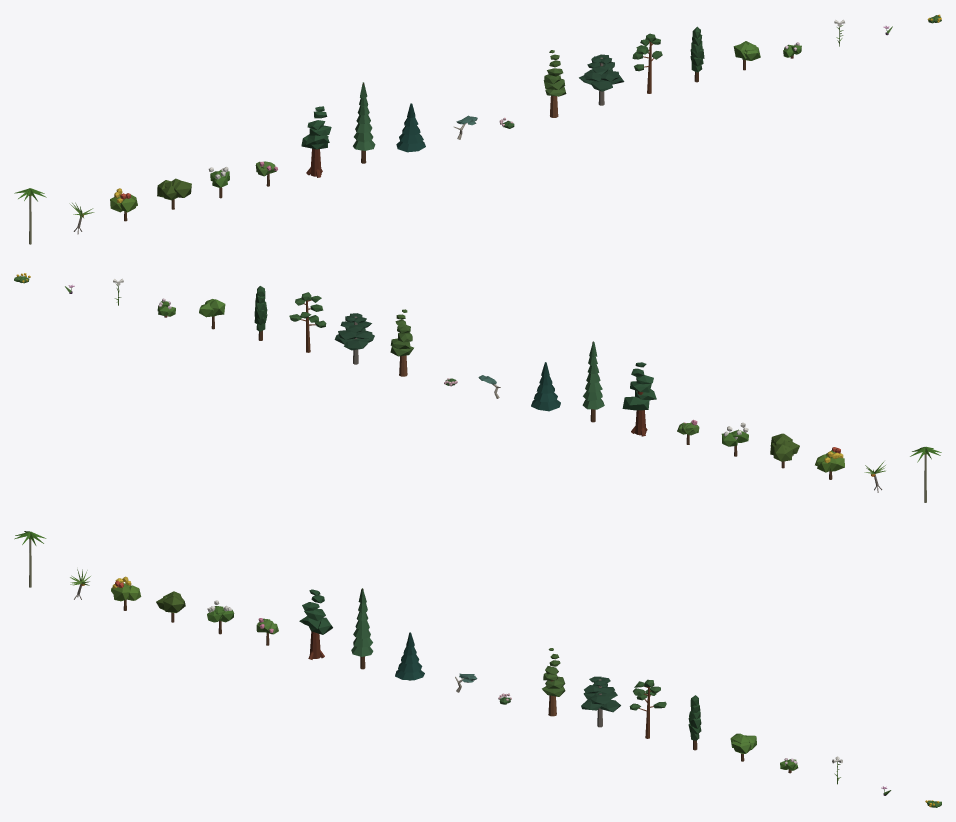
The model's file is trees.glb.
3 renders of one model, top to bottom at view 1: azimuth 30°, elevation 25°; view 2: azimuth 150°, elevation 25°; view 3: azimuth 330°, elevation 25°, orthographic.
Visible parts, largest first — view 1: red_cypress, hemlock, taiwania, hinoki, fir, pine, acacia, incense_cedar, goldenrain; view 2: red_cypress, hemlock, taiwania, hinoki, fir, pine, acacia, goldenrain, incense_cedar; view 3: red_cypress, hemlock, taiwania, hinoki, fir, pine.
Boxes of the visible parts, x1,y1,x2,y2 form: red_cypress: (301,106,331,177); hemlock: (579,54,624,105); taiwania: (353,82,375,163); hinoki: (543,50,566,117); fir: (396,103,425,152); pine: (632,33,662,93); acacia: (157,178,191,209); incense_cedar: (690,26,704,82); goldenrain: (110,188,137,221); red_cypress: (622,362,656,436); hemlock: (334,313,374,364); taiwania: (582,341,604,422); hinoki: (390,309,413,376); fir: (531,362,560,411); pine: (289,292,326,352); acacia: (770,433,799,468); goldenrain: (815,447,844,479); incense_cedar: (254,286,267,340); red_cypress: (299,589,332,659); hemlock: (581,676,620,727); taiwania: (351,588,373,669); hinoki: (542,648,565,716); fir: (395,632,424,680); pine: (629,679,666,738).
Bounding box in the file's own units: 29.18 × 2.45 × 1.18.
